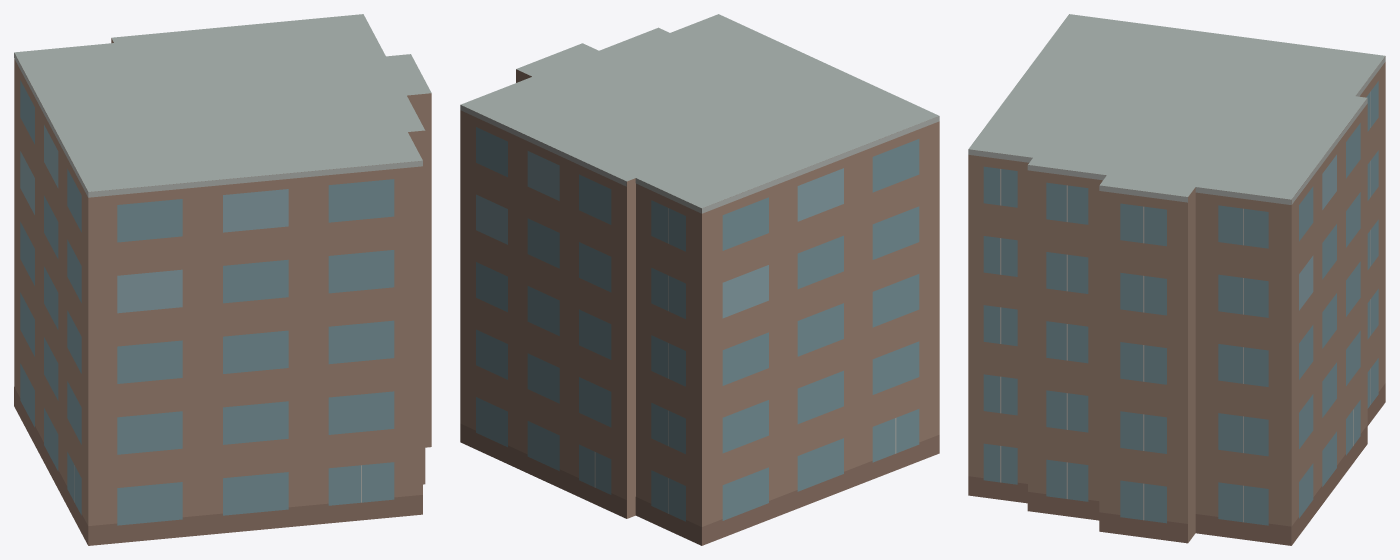
The model's file is survey-upis-32874541.glb.
The picture shows the model from 3 angles, left to right: view 1: azimuth 30°, elevation 25°; view 2: azimuth 150°, elevation 25°; view 3: azimuth 270°, elevation 25°; orthographic projection. The views are drawn at different scales.
Parts seen in each view (by area): view 1: survey-upis-32874541.tmp; view 2: survey-upis-32874541.tmp; view 3: survey-upis-32874541.tmp.
Part boxes in pixels (bbox=[...]): survey-upis-32874541.tmp: bbox=[14, 14, 431, 545]; survey-upis-32874541.tmp: bbox=[460, 14, 939, 545]; survey-upis-32874541.tmp: bbox=[968, 14, 1385, 545].
Size of the model in its own units: 17.54 by 15.25 by 16.67.
